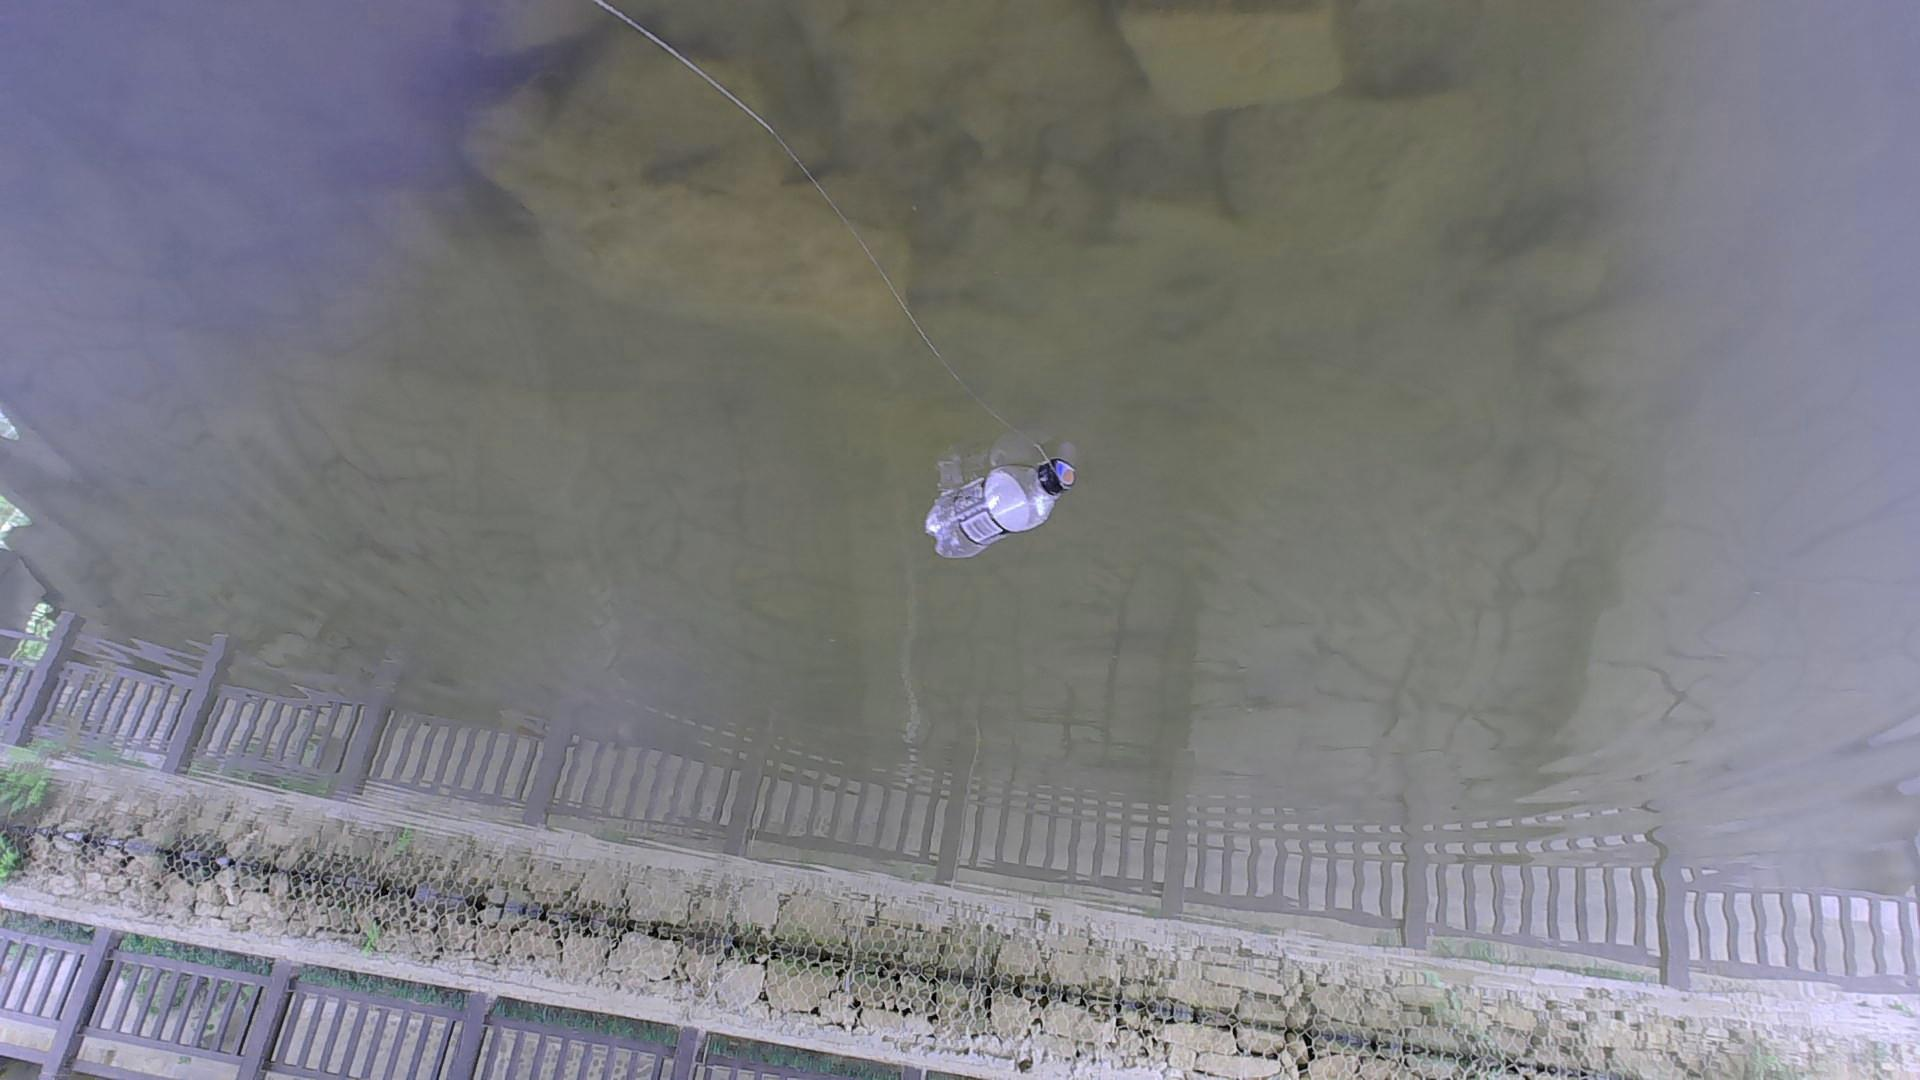Plastic: (922, 458, 1077, 566)
